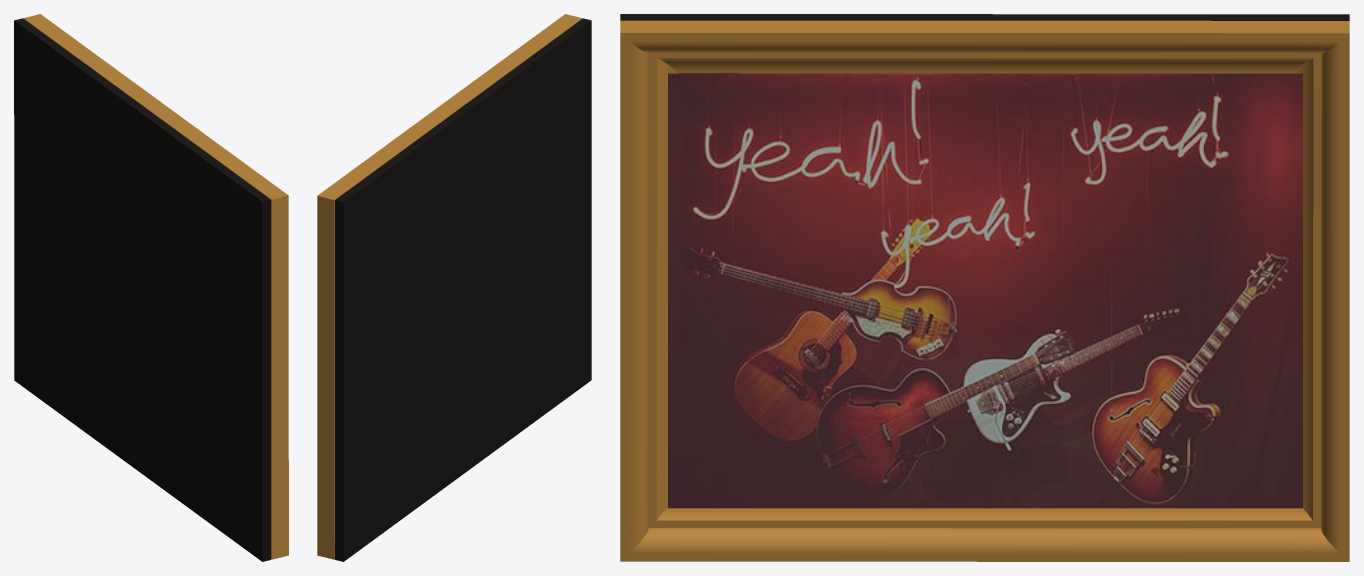
3 renders of one model, left to right at view 1: azimuth 30°, elevation 25°; view 2: azimuth 150°, elevation 25°; view 3: azimuth 270°, elevation 25°, orthographic. The views are drawn at different scales.
Parts seen in each view (by area): view 1: frame.001_3.001, back panel.001_2.001; view 2: frame.001_3.001, back panel.001_2.001; view 3: frame.001_3.001, back panel.001_2.001.
Part boxes in pixels (box(x1,y1,x2,y2)): frame.001_3.001: box(14, 18, 270, 561); back panel.001_2.001: box(23, 14, 288, 559); frame.001_3.001: box(335, 18, 591, 561); back panel.001_2.001: box(317, 14, 582, 559); frame.001_3.001: box(620, 14, 1349, 508); back panel.001_2.001: box(620, 20, 1349, 561).
Size of the model in its own units: 1.05 by 13.7 by 17.12.
3 materials, 1 textured.
